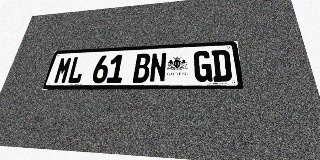1: (106, 54, 125, 83)
6: (91, 55, 111, 83)
B: (132, 53, 151, 83)
D: (211, 50, 232, 82)
G: (194, 50, 213, 82)
L: (66, 56, 86, 84)
M: (53, 57, 73, 84)
N: (149, 52, 167, 83)
